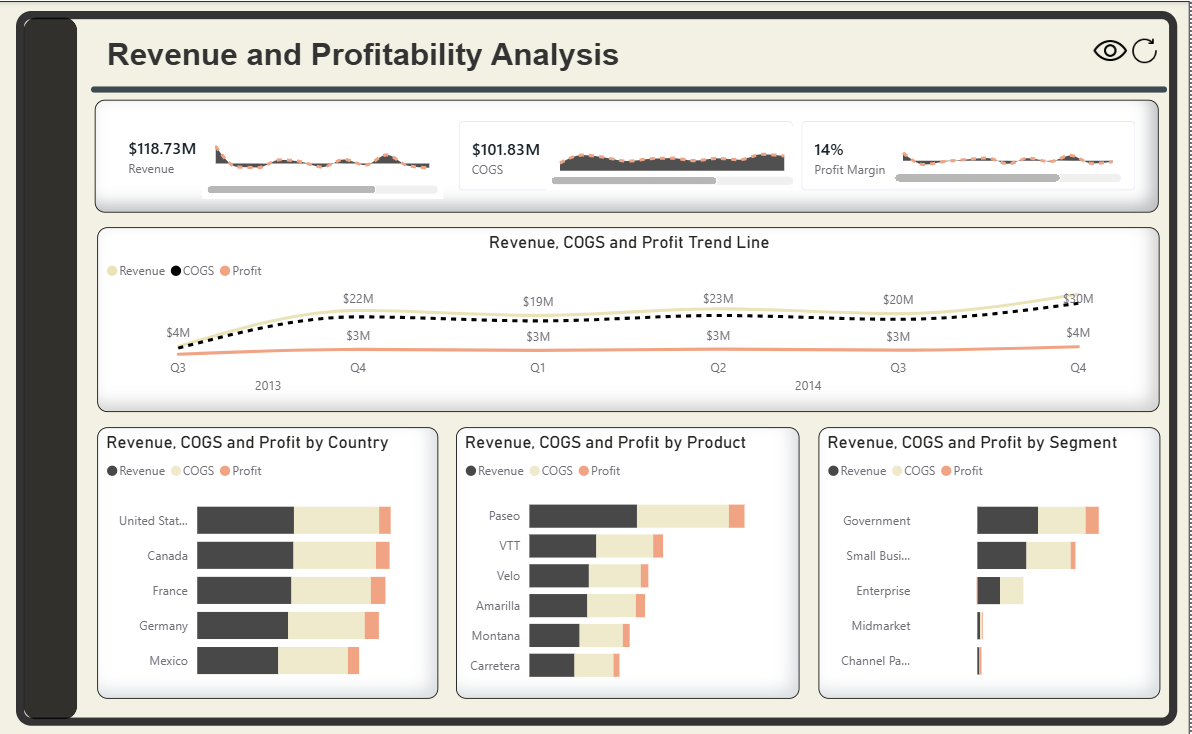

What the dashboard file says about the page in this screenshot:
{"tool":"powerbi","page":{"name":"Duplicate of Page 4","canvas":[1280,720],"ordinal":3},"visuals":[{"type":"shape","box":[112.5,0,1167.8,720.2],"z":0},{"type":"shape","box":[132.1,9.8,1136,699.5],"z":1000},{"type":"shape","box":[205.7,0,1052.7,173.2],"z":2000},{"type":"textbox","title":"Revenue and Profitability Analysis","box":[212.4,33.8,518.2,40.6],"z":3000},{"type":"image","box":[1224.3,22.9,24.3,51.4],"z":4000},{"type":"lineChart","title":"Revenue, COGS and Profit Trend Line","fields":{"Category":["Dim_Date.Year","Dim_Date.Quarter","Dim_Date.Month Short"],"Y":["Dax Messures.Revenue","Dax Messures.COGS","Dax Messures.Profit"]},"box":[211.6,221.3,1039.4,181],"z":5000},{"type":"cardVisual","fields":{"Data":["Dax Messures.Revenue","Dax Messures.COGS","Dax Messures.Profit Margin"]},"box":[209.1,96.6,1040.6,110.1],"z":6000},{"type":"lineChart","fields":{"Category":["Dim_Date.Year Month"],"Y":["Dax Messures.Revenue_MoM %"]},"box":[314.3,114.3,235.7,80],"z":7000},{"type":"image","box":[1185.7,25.7,32.9,45.7],"z":7500},{"type":"lineChart","fields":{"Category":["Dim_Date.Year Month"],"Y":["Dax Messures.COGS"]},"box":[650,122.9,247.1,62.9],"z":8000},{"type":"lineChart","fields":{"Y":["Dax Messures.Profit MoM%"],"Category":["Dim_Date.Year Month"]},"box":[987.1,122.9,231.4,60],"z":9000},{"type":"barChart","fields":{"Category":["Fact_Financial.Country"],"Y":["Dax Messures.Revenue","Dax Messures.COGS","Dax Messures.Profit"]},"box":[211.6,417,333.8,265.4],"z":10000},{"type":"barChart","fields":{"Category":["Fact_Financial.Product"],"Y":["Dax Messures.Revenue","Dax Messures.COGS","Dax Messures.Profit"]},"box":[562.9,417.1,336,265.7],"z":11000},{"type":"barChart","fields":{"Category":["Fact_Financial.Segment"],"Y":["Dax Messures.Revenue","Dax Messures.COGS","Dax Messures.Profit"]},"box":[917.1,417.1,334.3,265.7],"z":12000},{"type":"shape","box":[139.4,15.9,52.6,687],"z":13001}]}

Visuals, with their boxes on the page's 1280x720 design canvas (x1, y1, x2, y2). These are canvas units, not pixel positions in the 1192x734 screenshot, which may show the page scaled, cropped or inside an application window:
shape: l=112, t=0, r=1280, b=720
shape: l=132, t=10, r=1268, b=709
shape: l=206, t=0, r=1258, b=173
"Revenue and Profitability Analysis" textbox: l=212, t=34, r=731, b=74
image: l=1224, t=23, r=1249, b=74
"Revenue, COGS and Profit Trend Line" lineChart: l=212, t=221, r=1251, b=402
cardVisual - Dax Messures.Revenue x Dax Messures.COGS: l=209, t=97, r=1250, b=207
lineChart - Dim_Date.Year Month x Dax Messures.Revenue_MoM %: l=314, t=114, r=550, b=194
image: l=1186, t=26, r=1219, b=71
lineChart - Dim_Date.Year Month x Dax Messures.COGS: l=650, t=123, r=897, b=186
lineChart - Dax Messures.Profit MoM% x Dim_Date.Year Month: l=987, t=123, r=1218, b=183
barChart - Fact_Financial.Country x Dax Messures.Revenue: l=212, t=417, r=545, b=682
barChart - Fact_Financial.Product x Dax Messures.Revenue: l=563, t=417, r=899, b=683
barChart - Fact_Financial.Segment x Dax Messures.Revenue: l=917, t=417, r=1251, b=683
shape: l=139, t=16, r=192, b=703
